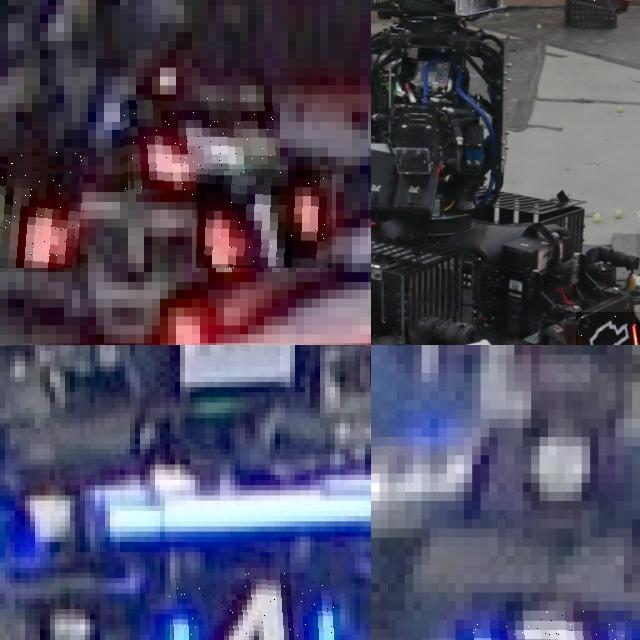B3: (463, 611, 632, 640)
B4: (165, 573, 335, 640)
R1: (124, 98, 276, 196), (196, 170, 332, 268), (0, 152, 84, 267)
Rs: (575, 312, 640, 345)
